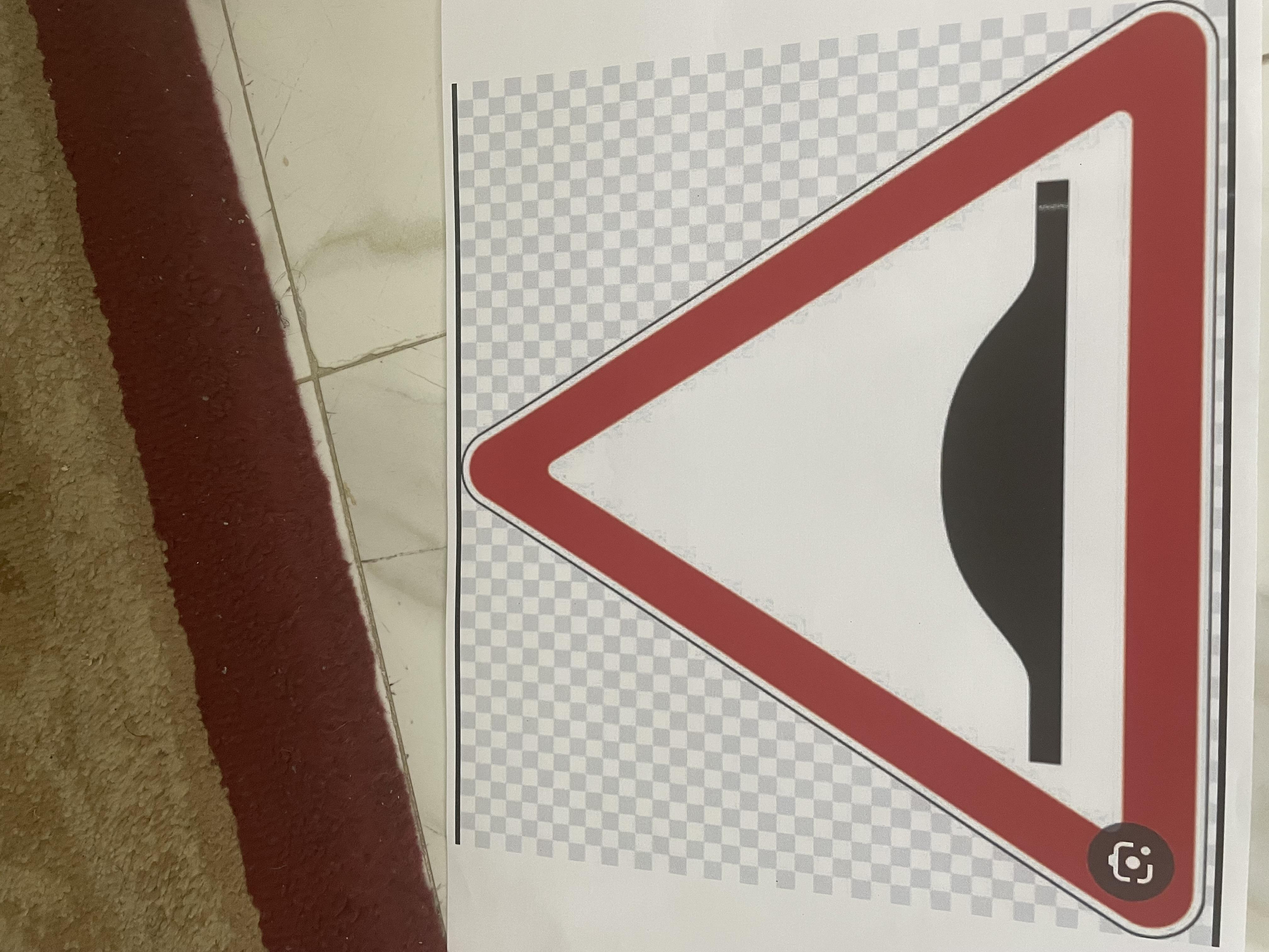Hump: (16, 345, 1269, 916)
